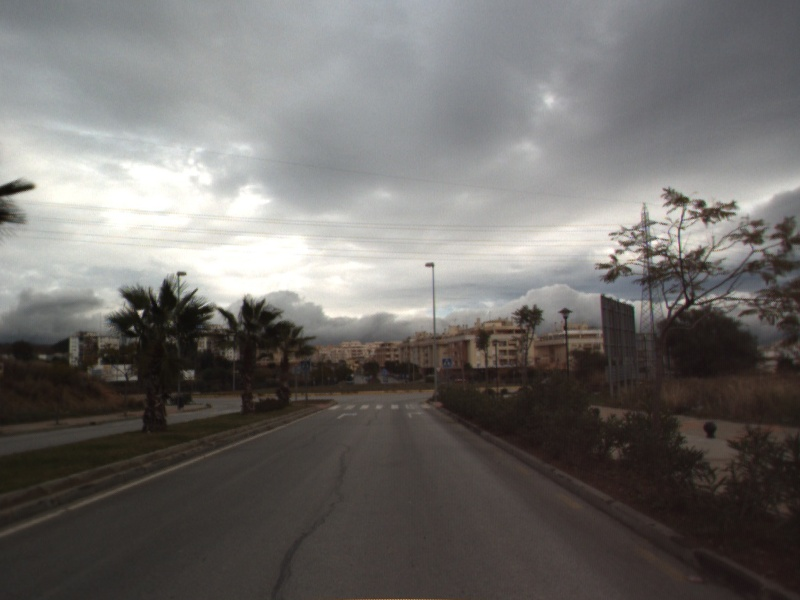RIGHT: (334, 410, 359, 421), (405, 408, 426, 420)
